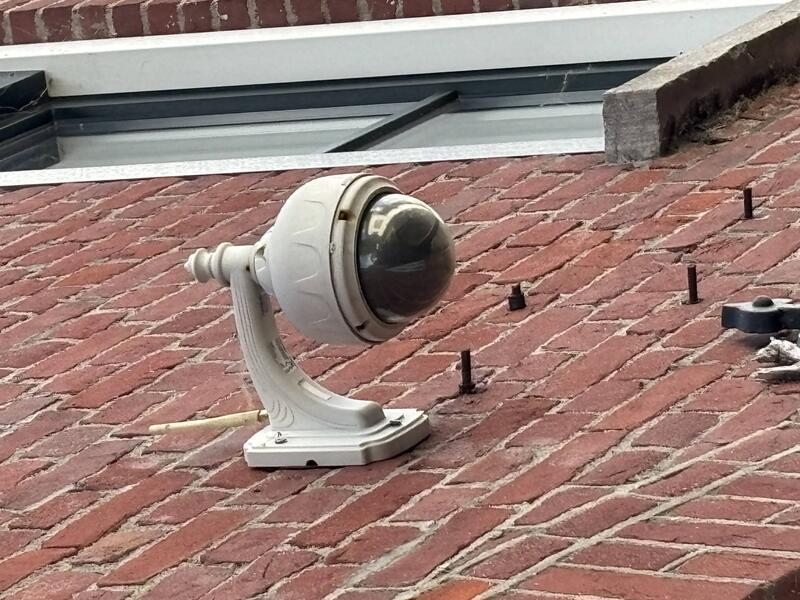dome: (257, 275, 430, 462)
